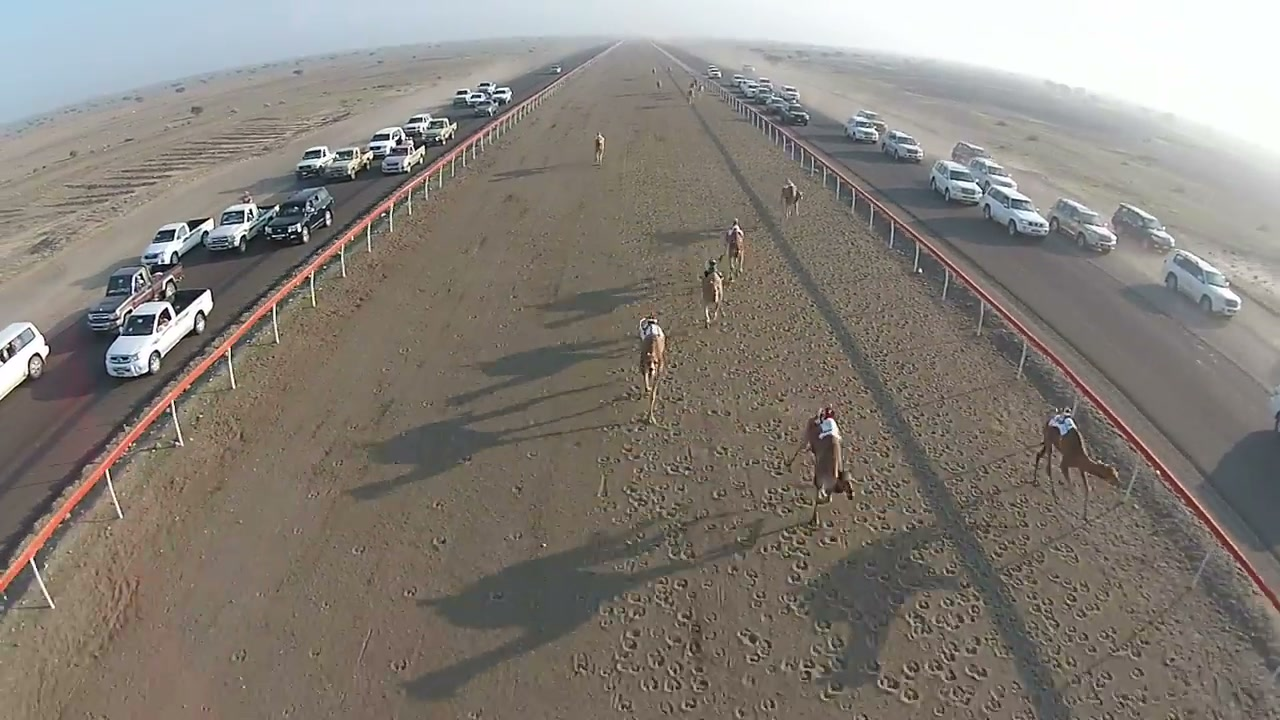animal_footprint: (804, 251, 1166, 719), (737, 367, 1010, 719), (592, 411, 715, 719)
